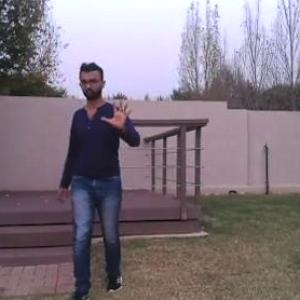follow_hand: (100, 90, 136, 132)
